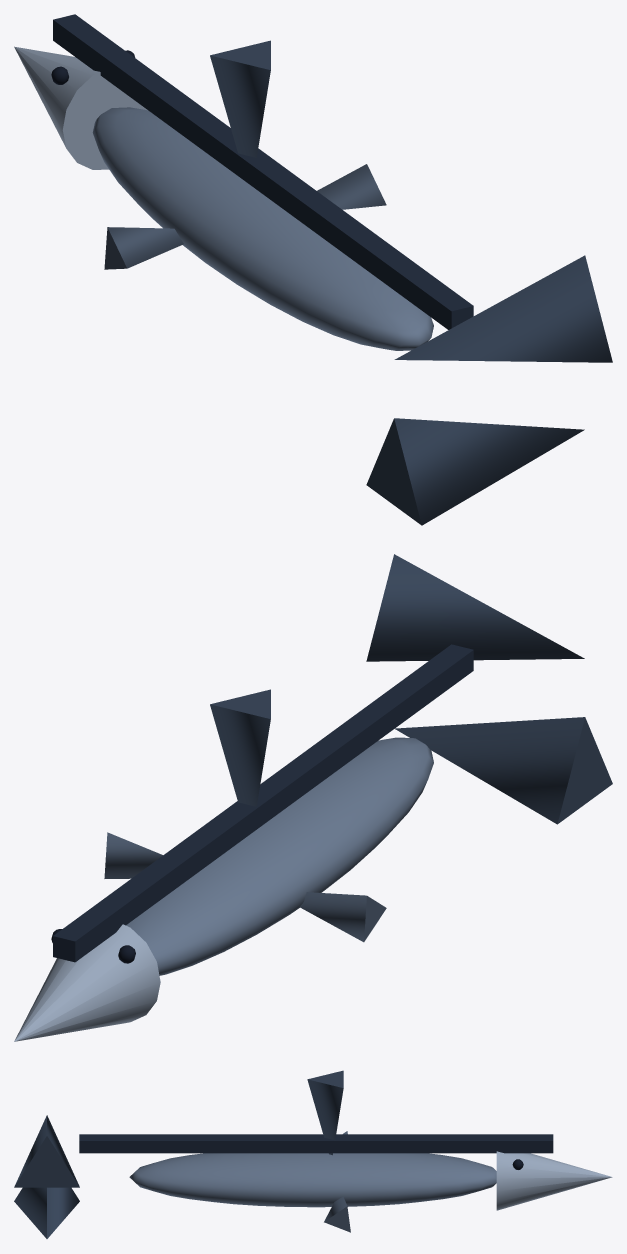
Rendered from fish-long.glb.
The picture shows the model from 3 angles, top to bottom: view 1: azimuth 30°, elevation 25°; view 2: azimuth 150°, elevation 25°; view 3: azimuth 270°, elevation 25°; orthographic projection. The views are drawn at different scales.
Size of the model in its own units: 0.5828 by 0.54 by 1.96.
